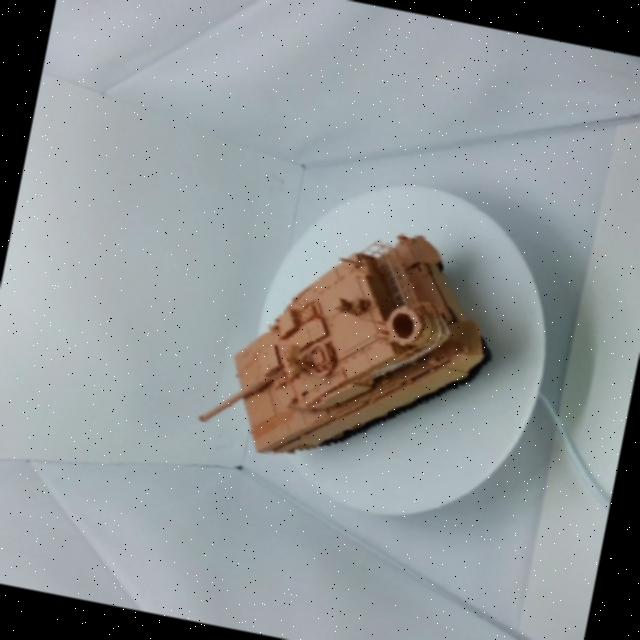korea tank: (168, 179, 524, 529)
